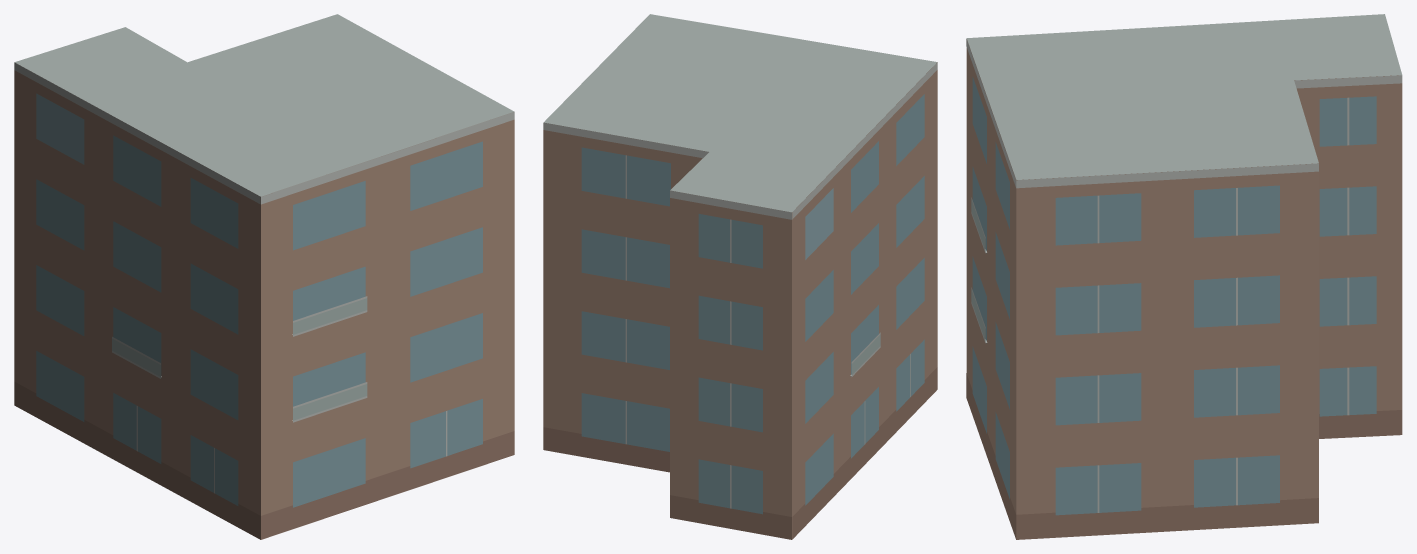
The model's file is survey-upis-32986854.glb.
3 views of the same model, side by side, from view 1: azimuth 30°, elevation 25°; view 2: azimuth 150°, elevation 25°; view 3: azimuth 270°, elevation 25° (orthographic). The views are drawn at different scales.
Parts seen in each view (by area): view 1: survey-upis-32986854.tmp; view 2: survey-upis-32986854.tmp; view 3: survey-upis-32986854.tmp.
Part boxes in pixels (x1,y1,x2,y2): survey-upis-32986854.tmp: [14, 14, 514, 539]; survey-upis-32986854.tmp: [543, 14, 937, 539]; survey-upis-32986854.tmp: [966, 14, 1402, 539].
Size of the model in its own units: 10.6 by 10.7 by 11.76.
